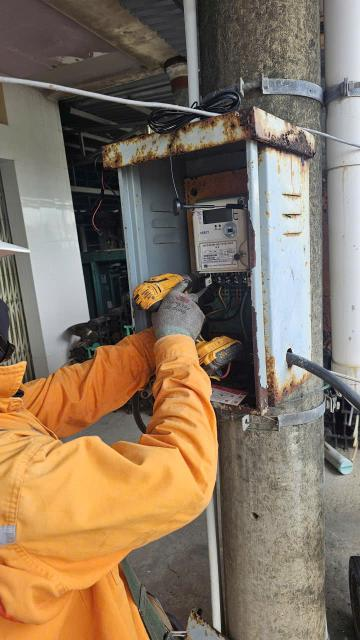gloves: (136, 274, 217, 346)
